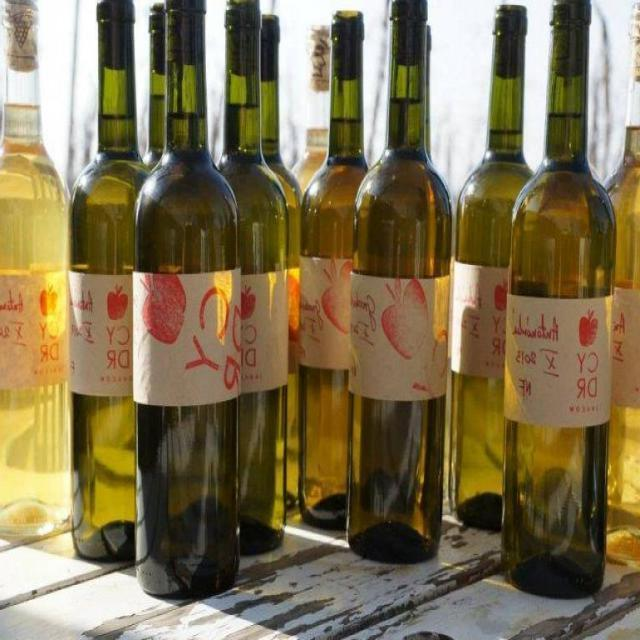glass: (339, 0, 458, 570)
